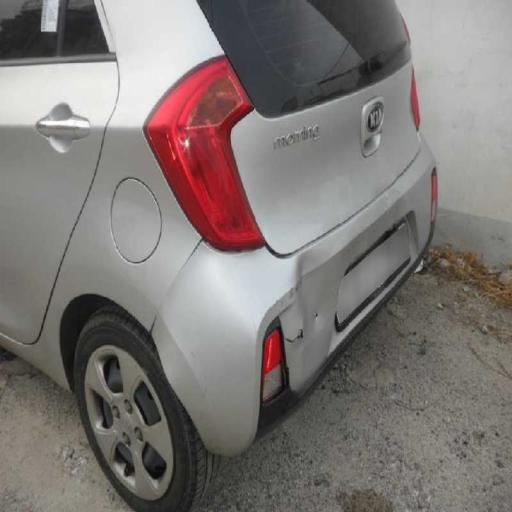dent: (234, 240, 444, 376)
